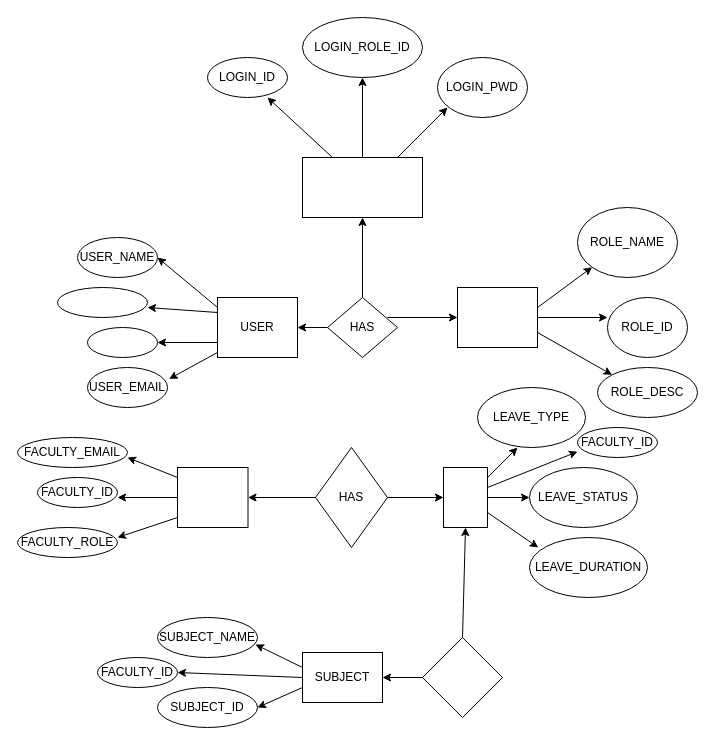
The diagram is 715 pixels wide and 745 high, and some of its shapes have lost their labels. The shapes that lost their labels are listed below. From the top down, each one's centre as x and y in pixels, then its label:
At (362,187): "LOGIN".
At (102,302): "USER_MOBILE".
At (497,317): "ROLE".
At (122,342): "USER_ID".
At (212,497): "FACULTY".
At (465,497): "LEAVE".
At (462,677): "MANAGE".
